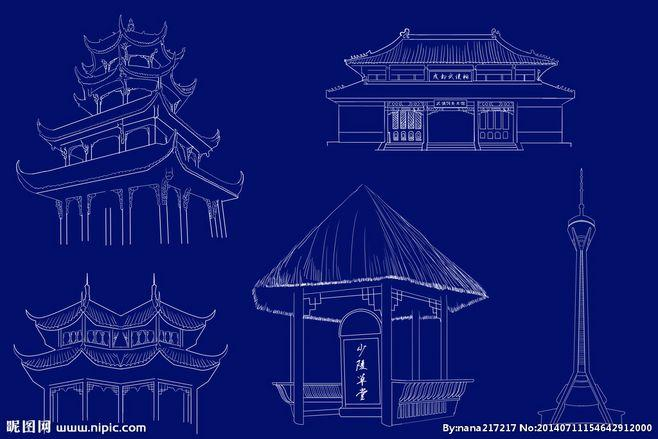buildings: (245, 214, 489, 437), (20, 278, 218, 425), (537, 178, 623, 418)
